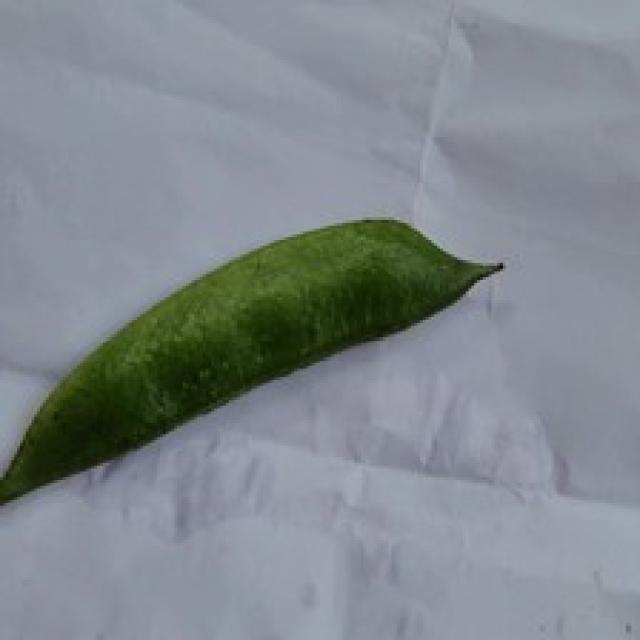Bean: (0, 214, 503, 512)
